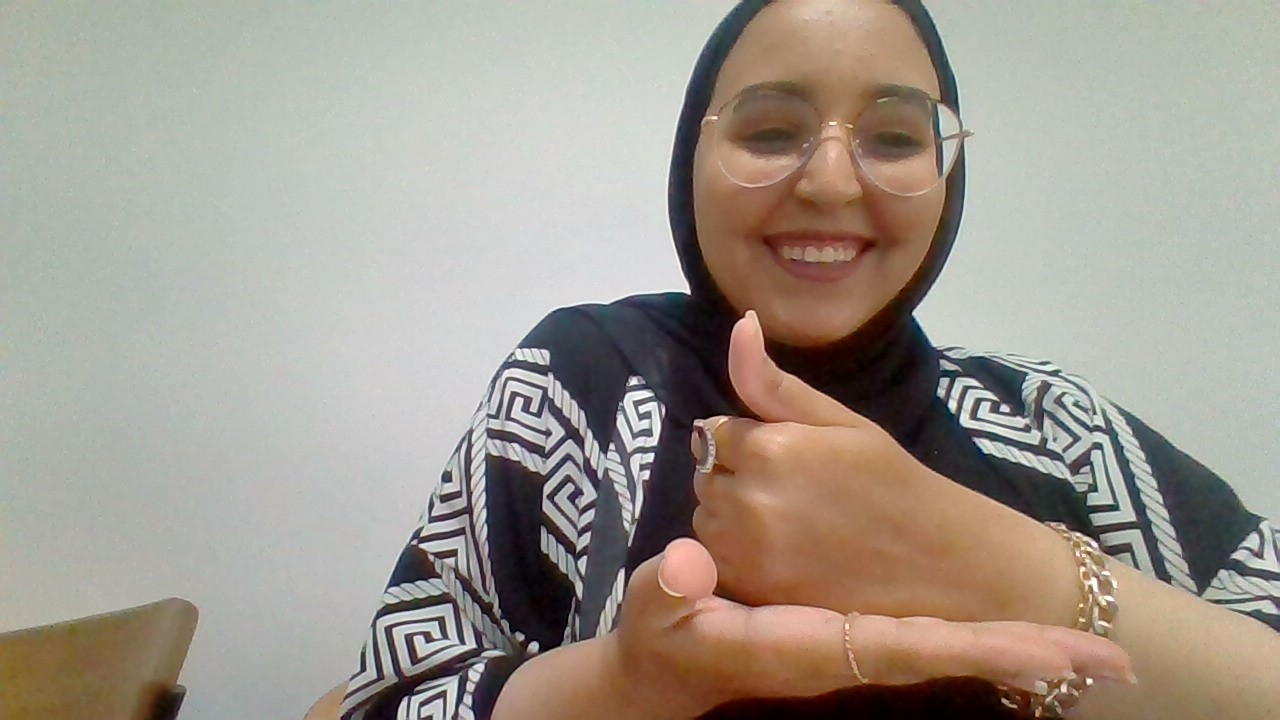help: (680, 295, 973, 620)
